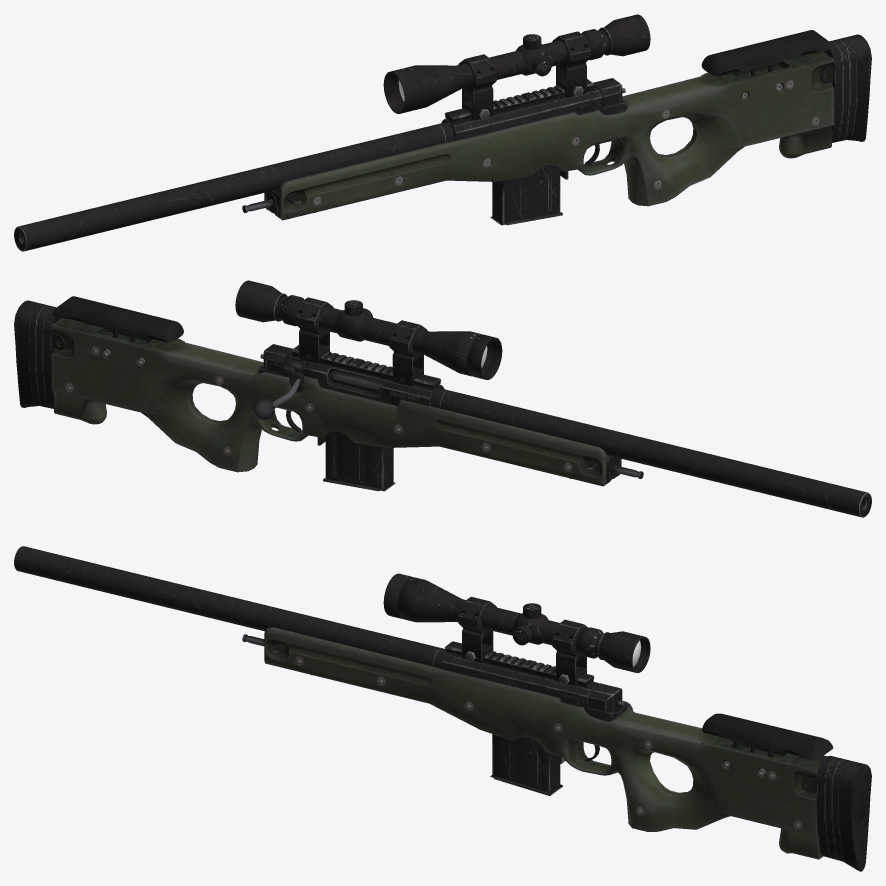
Rendered from awm.glb.
3 renders of one model, top to bottom at view 1: azimuth 30°, elevation 25°; view 2: azimuth 150°, elevation 25°; view 3: azimuth 330°, elevation 25°, orthographic.
Visible parts, largest first — view 1: frame, scope, mag, bolt; view 2: frame, scope, mag, bolt_handle, bolt; view 3: frame, scope, mag, bolt.
Part boxes in pixels (box(x1,y1,x2,y2)): frame: box(14, 30, 871, 251); scope: box(383, 14, 650, 120); mag: box(490, 165, 562, 225); bolt: box(593, 78, 625, 107); frame: box(14, 296, 871, 517); scope: box(235, 280, 502, 386); mag: box(323, 431, 395, 491); bolt_handle: box(253, 358, 381, 420); bolt: box(260, 344, 292, 373); frame: box(14, 546, 871, 871); scope: box(383, 573, 650, 685); mag: box(490, 734, 562, 795); bolt: box(588, 683, 625, 712).
Size of the model in its own units: 119 by 25.51 by 9.94.
3 materials, 2 textured.
